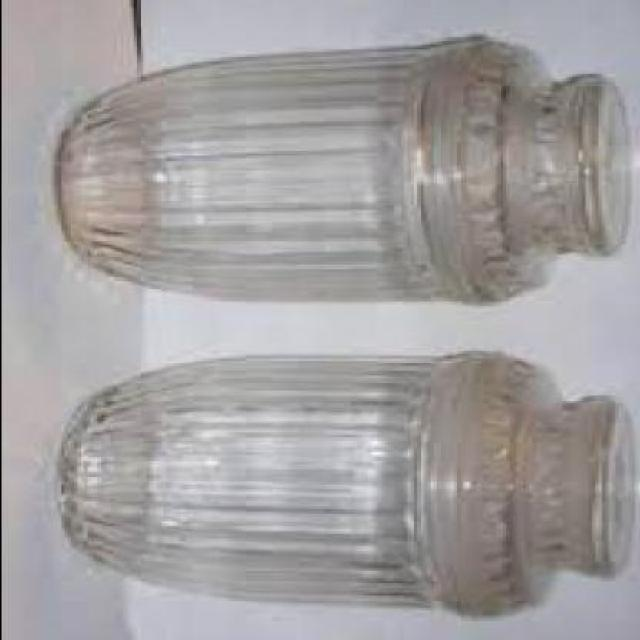GLASS: (56, 353, 627, 621), (59, 42, 630, 306)
